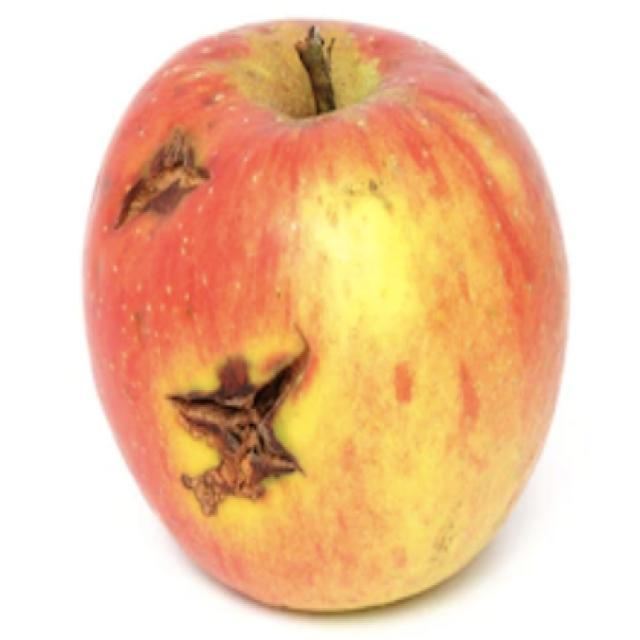Rotten: (88, 22, 567, 630)
